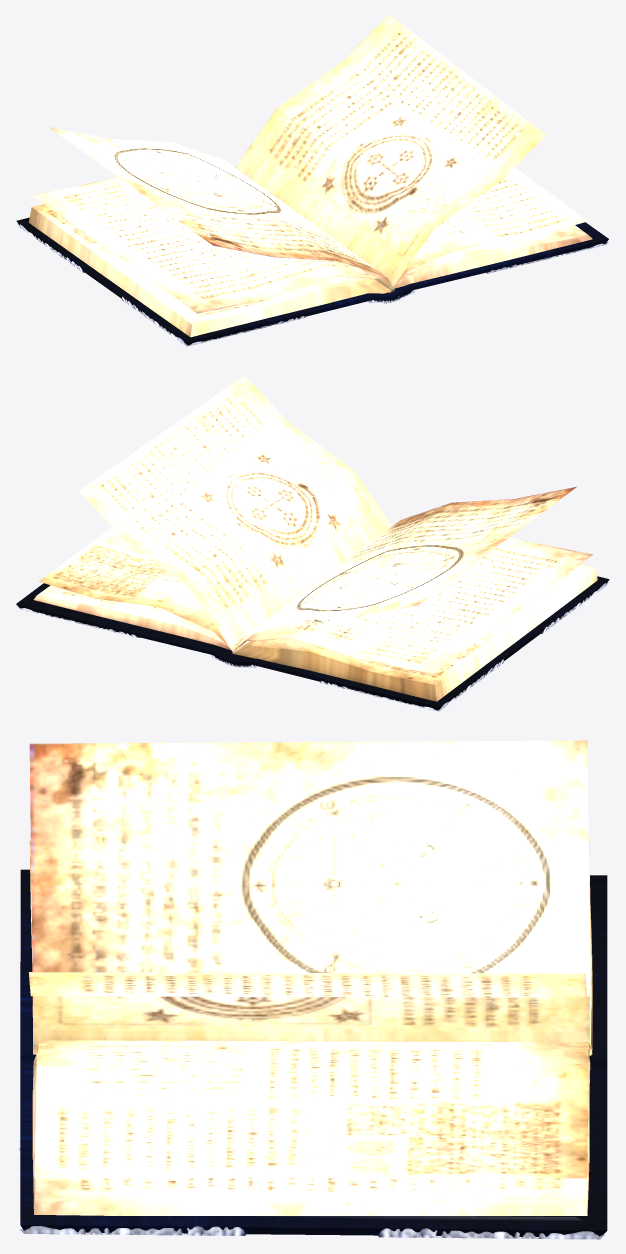
Rendered from MagicBook.fbx.
The picture shows the model from 3 angles, top to bottom: view 1: azimuth 30°, elevation 25°; view 2: azimuth 150°, elevation 25°; view 3: azimuth 270°, elevation 25°; orthographic projection. The views are drawn at different scales.
Parts seen in each view (by area): view 1: MagicBook; view 2: MagicBook; view 3: MagicBook.
Part boxes in pixels (box(x1,y1,x2,y2)): MagicBook: box(16, 14, 608, 346); MagicBook: box(16, 375, 609, 711); MagicBook: box(18, 740, 607, 1239).
Size of the model in its own units: 3344 by 1002 by 2368.
